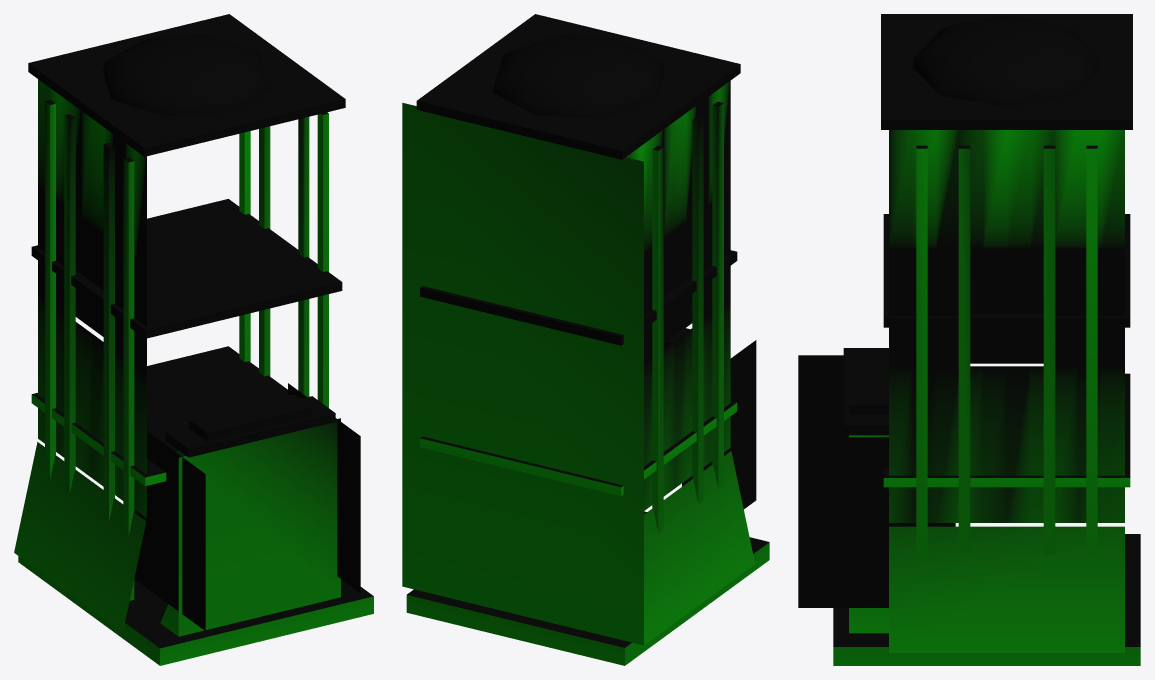
Rendered from d_mediumpost.glb.
3 views of the same model, side by side, from view 1: azimuth 30°, elevation 25°; view 2: azimuth 150°, elevation 25°; view 3: azimuth 270°, elevation 25° (orthographic). The views are drawn at different scales.
Visible parts, largest first — view 1: lod0; view 2: lod0; view 3: lod0.
Boxes of the visible parts, x1=… form: lod0: x1=14, y1=14, x2=373, y2=665; lod0: x1=402, y1=14, x2=769, y2=665; lod0: x1=798, y1=14, x2=1140, y2=665.
Size of what is drawn, in the model's own units: 5.65 by 12.1 by 6.53.
